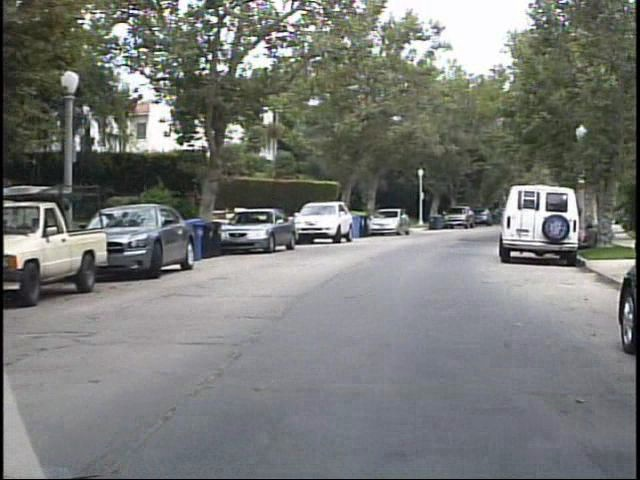person: (583, 222, 603, 254)
